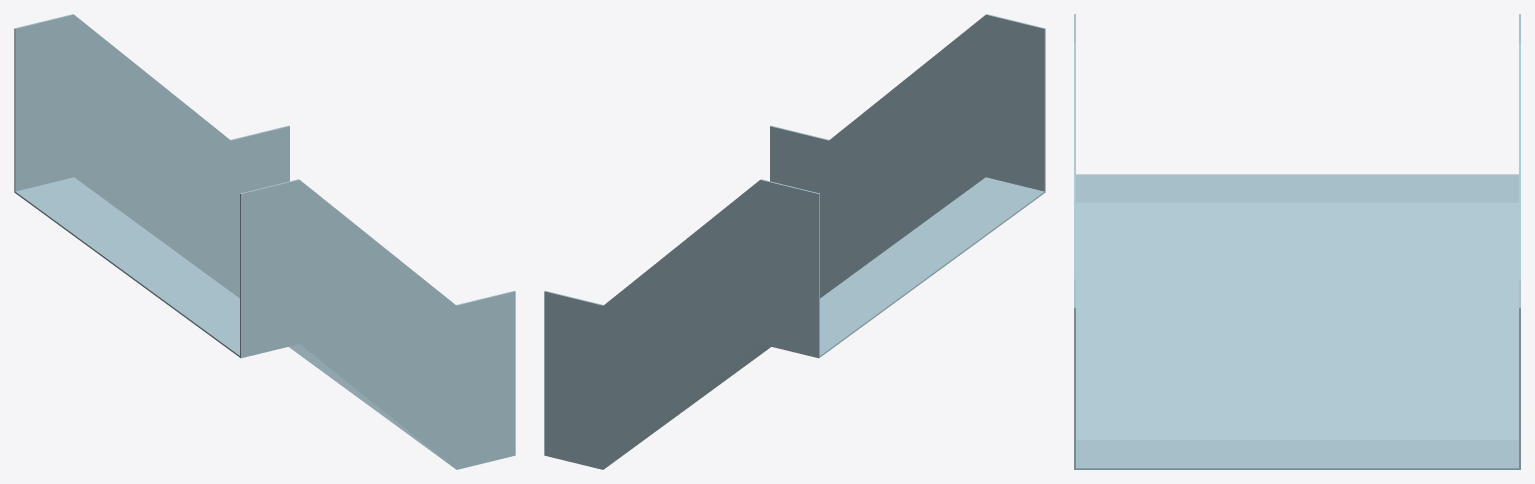
3 renders of one model, left to right at view 1: azimuth 30°, elevation 25°; view 2: azimuth 150°, elevation 25°; view 3: azimuth 270°, elevation 25°, orthographic.
Parts seen in each view (by area): view 1: L3-C10; view 2: L3-C10; view 3: L3-C10.
Part boxes in pixels (left/top/right/bottom): L3-C10: left=14, top=14, right=515, bottom=469; L3-C10: left=544, top=14, right=1045, bottom=469; L3-C10: left=1074, top=14, right=1520, bottom=469.
Size of the model in its own units: 0.35 by 0.4 by 0.5.
